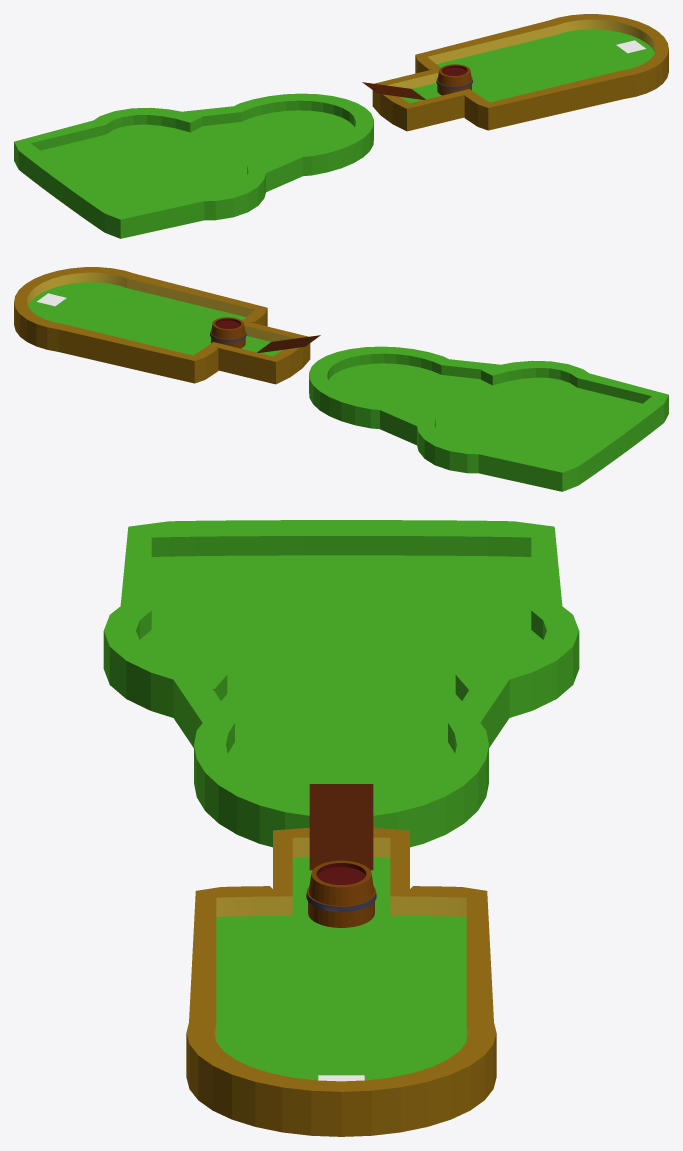
File: playground3Newtest.glb
The picture shows the model from 3 angles, top to bottom: view 1: azimuth 30°, elevation 25°; view 2: azimuth 150°, elevation 25°; view 3: azimuth 270°, elevation 25°; orthographic projection. The views are drawn at different scales.
Parts seen in each view (by area): view 1: Circle.001, Plane, Cylinder; view 2: Circle.001, Plane, Cylinder; view 3: Circle.001, Plane, Cylinder.
Part boxes in pixels (left/top/right/bottom): Circle.001: left=14, top=93, right=373, bottom=238; Plane: left=362, top=14, right=668, bottom=131; Cylinder: left=436, top=64, right=472, bottom=95; Circle.001: left=309, top=346, right=668, bottom=491; Plane: left=14, top=267, right=320, bottom=384; Cylinder: left=210, top=317, right=246, bottom=348; Circle.001: left=103, top=520, right=579, bottom=847; Plane: left=186, top=784, right=496, bottom=1136; Cylinder: left=306, top=860, right=376, bottom=927.
Bounding box in the file's own units: 43.33 × 2.65 × 14.94.
